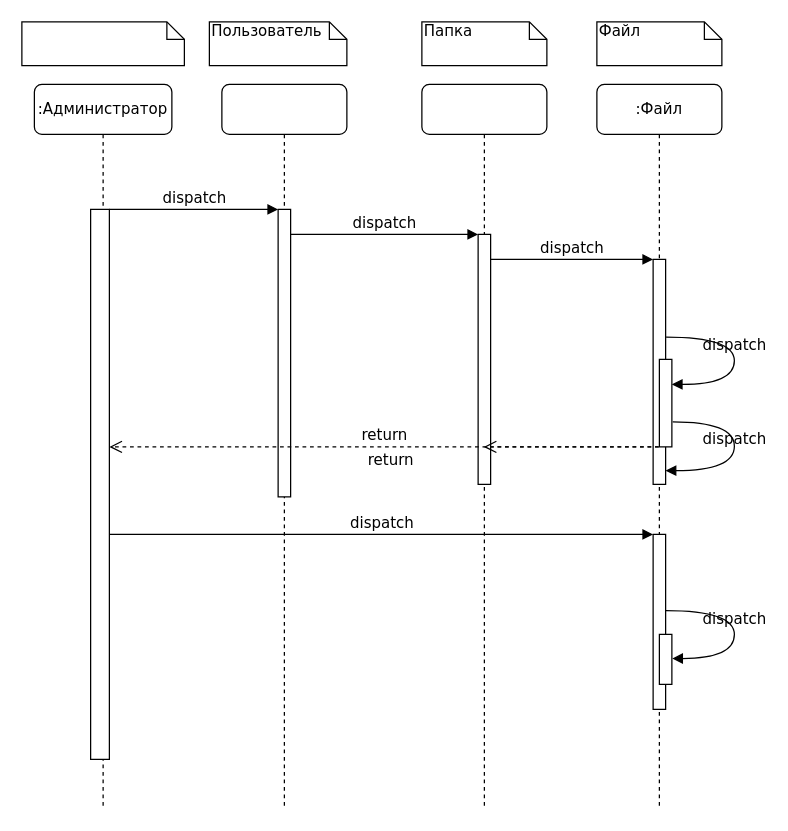
Image size: 788x831. Some labels were removed from this diagram. Each missing label, with the box of its shape:
:Папка: (421, 83, 547, 809)
:Пользователь: (221, 83, 347, 809)
Администратор: (21, 21, 184, 66)
